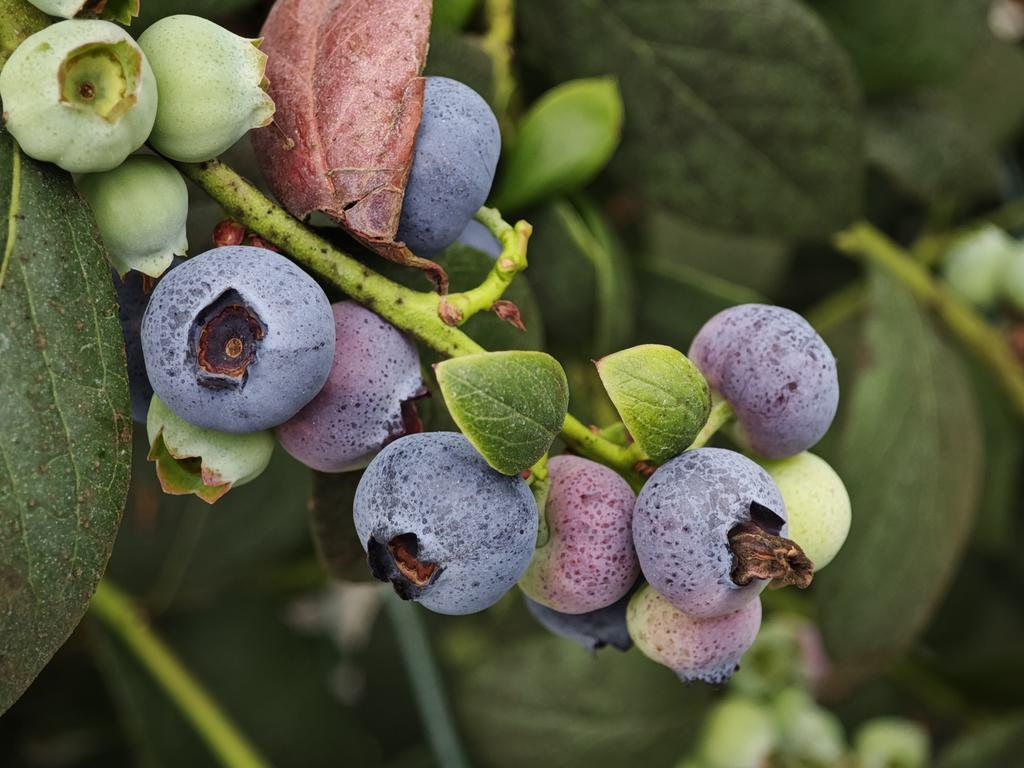RipeBlueBerry: (144, 240, 334, 431), (357, 433, 532, 616)
Semi-RipeBlueBerry: (638, 447, 790, 619), (698, 306, 840, 449)
UnripeBlueBerry: (3, 18, 157, 166)
